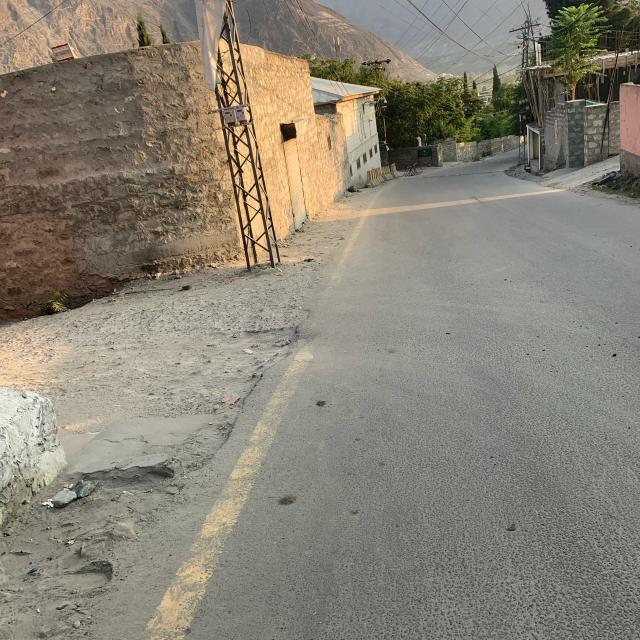Left-Turn: (1, 285, 335, 450)
straight: (431, 179, 544, 483)
